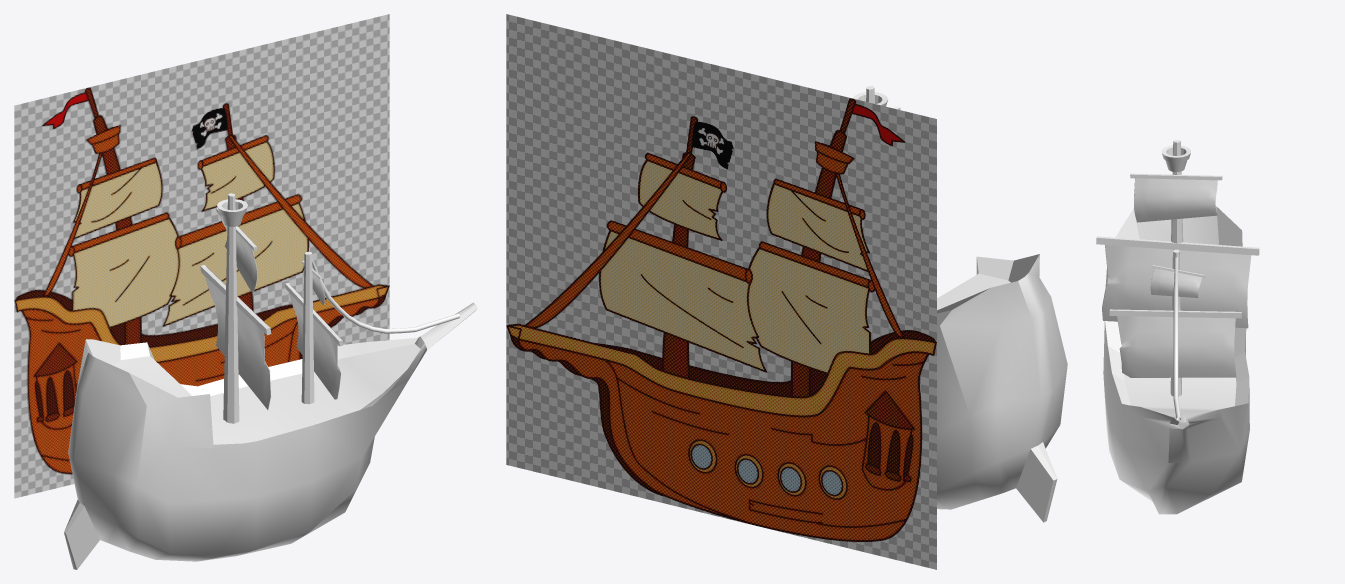
The model's file is Pirate Ship.fbx.
3 renders of one model, left to right at view 1: azimuth 30°, elevation 25°; view 2: azimuth 150°, elevation 25°; view 3: azimuth 270°, elevation 25°, orthographic. The views are drawn at different scales.
Parts seen in each view (by area): view 1: pPlane1, pCube1, pCube3, pCylinder1, pCube4, pCylinder2, pCube2, pCylinder4, pCylinder3; view 2: pPlane1, pCube1; view 3: pCube1, pCube3, pCube4, pCube2, pCube5, pCylinder4, pCylinder3, pCylinder1, pCylinder2.
Boxes of the visible parts, <box> form: pPlane1: <box>14,14,389,498</box>; pCube1: <box>64,302,477,569</box>; pCube3: <box>200,265,271,409</box>; pCylinder1: <box>223,193,239,423</box>; pCube4: <box>285,283,343,399</box>; pCylinder2: <box>301,251,314,404</box>; pCube2: <box>216,207,257,293</box>; pCylinder4: <box>312,258,459,333</box>; pCylinder3: <box>217,199,247,226</box>; pPlane1: <box>506,14,936,569</box>; pCube1: <box>937,254,1067,522</box>; pCube1: <box>1103,206,1249,514</box>; pCube3: <box>1096,236,1259,328</box>; pCube4: <box>1109,309,1241,377</box>; pCube2: <box>1130,173,1222,222</box>; pCube5: <box>1150,265,1204,297</box>; pCylinder4: <box>1173,257,1180,420</box>; pCylinder3: <box>1161,145,1190,171</box>; pCylinder1: <box>1171,140,1183,250</box>; pCylinder2: <box>1170,249,1181,396</box>.
Bounding box in the file's own units: 5.51 × 5.33 × 2.82.
5 materials, 1 textured.
